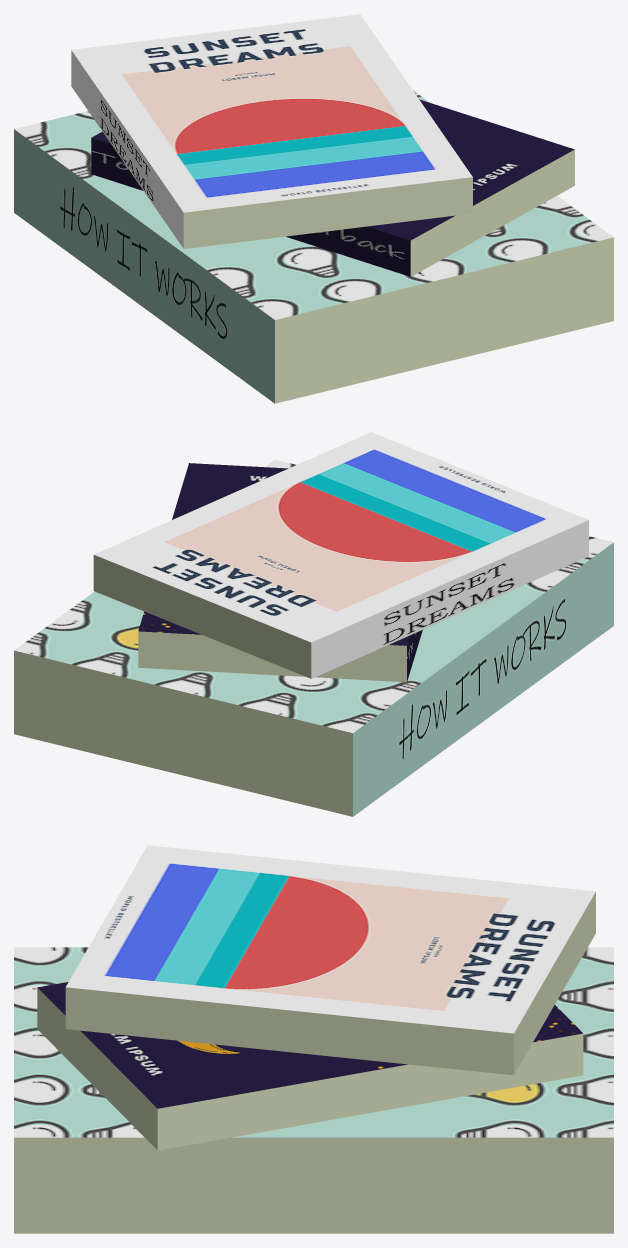
File: Book_Stack.fbx
3 renders of one model, top to bottom at view 1: azimuth 30°, elevation 25°; view 2: azimuth 150°, elevation 25°; view 3: azimuth 270°, elevation 25°, orthographic. The views are drawn at different scales.
Parts seen in each view (by area): view 1: Book_Stack; view 2: Book_Stack; view 3: Book_Stack.
Boxes of the visible parts, bbox=[...] form: Book_Stack: bbox=[14, 14, 613, 403]; Book_Stack: bbox=[14, 432, 613, 816]; Book_Stack: bbox=[14, 845, 613, 1233].
Bounding box in the file's own units: 22.75 × 8.6 × 26.
